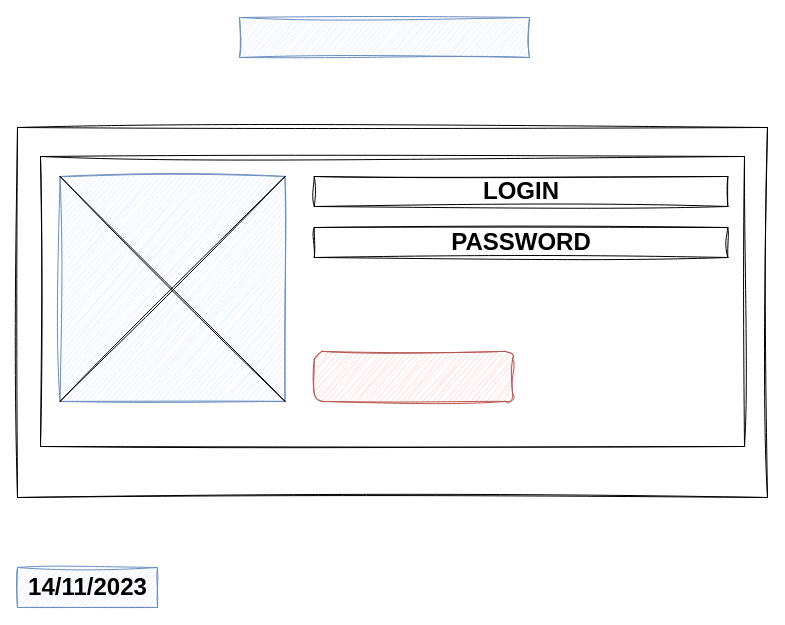
Image size: 785x625. Some labels were removed from this diagram. Each missing label, with the box of its shape:
LOGAR: (313, 350, 513, 401)
Login de administrador: (238, 16, 530, 58)
